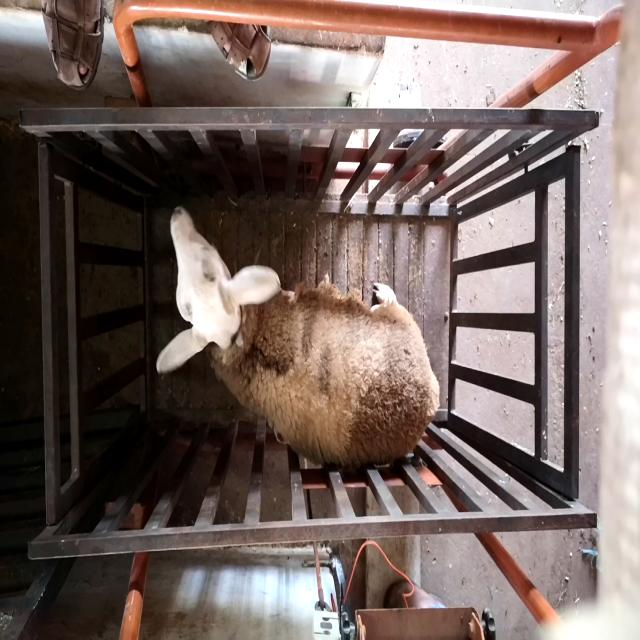sheep: (156, 207, 439, 469)
